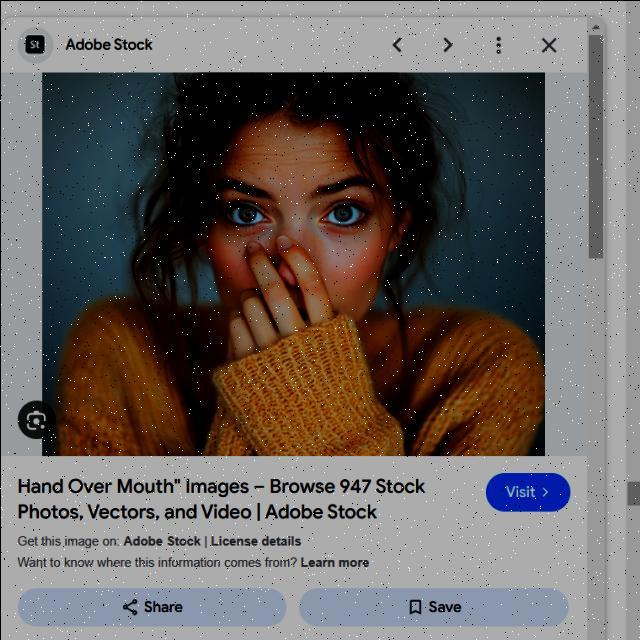face_with_hand: (207, 119, 384, 353)
